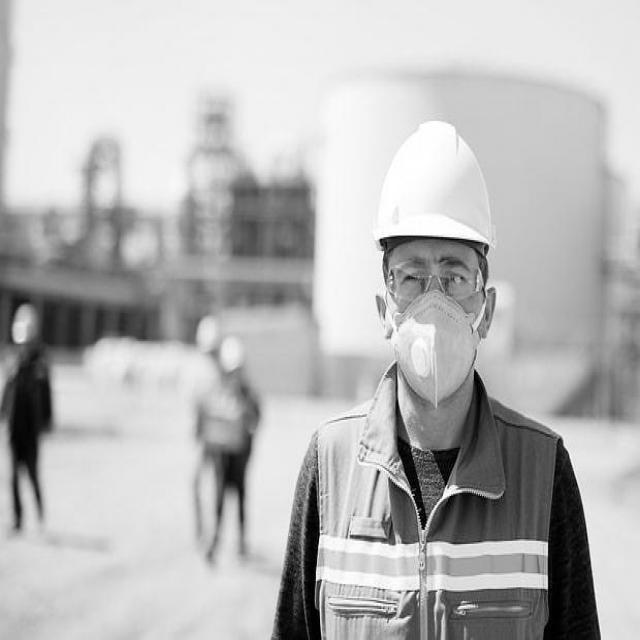safety_helmet: (373, 121, 499, 251)
